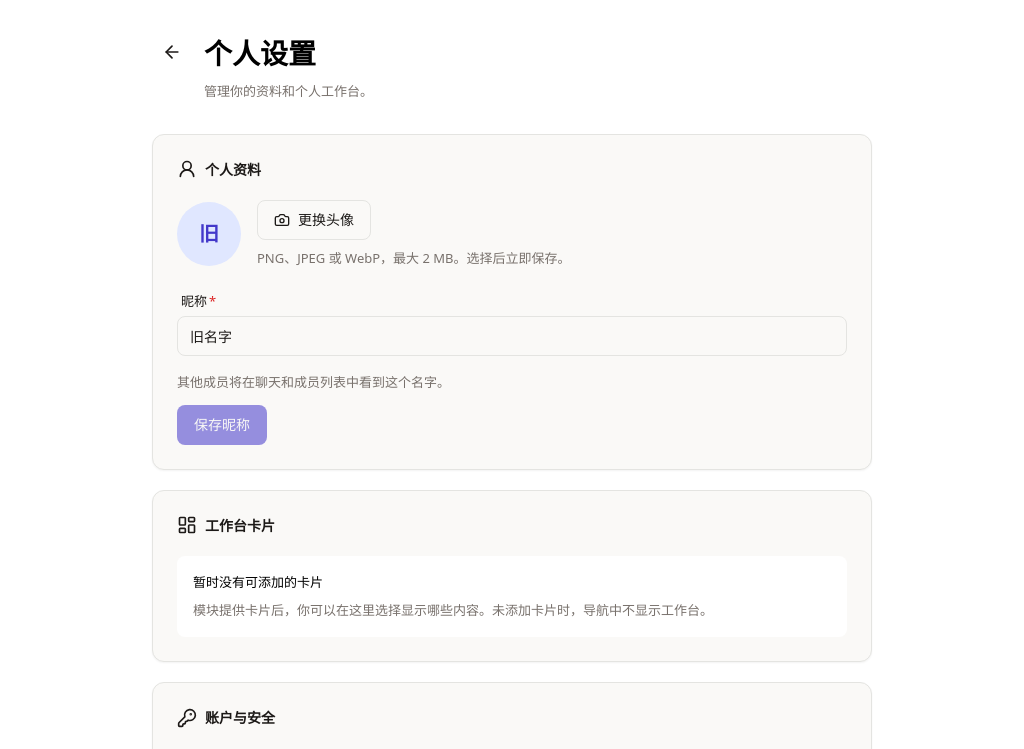
Test: 成员个人设置 › 失败时保留输入并允许重试，未登录直接访问设置转到登录页
Replace the text in the field named "display-name" with "未保存" at [512, 336], box [177,316,847,356]
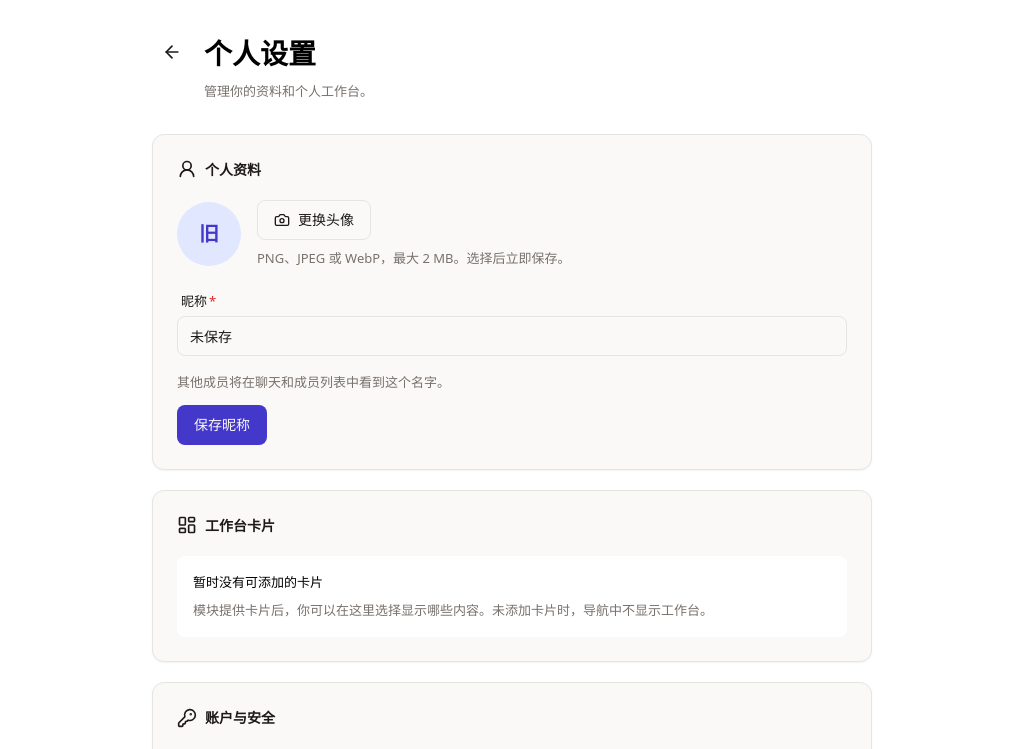
Submit the form, box [177,292,847,445]
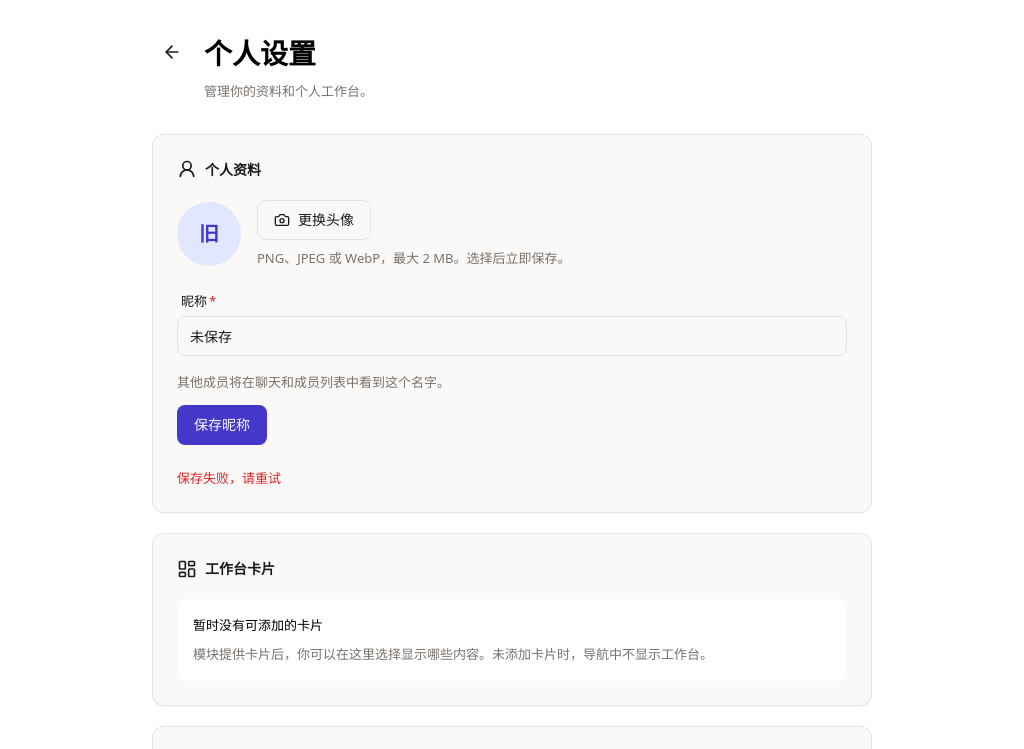
Now the submit button is enabled, box [177,405,267,445]
Now the message "保存失败，请重试" is shown, box [177,469,281,487]
